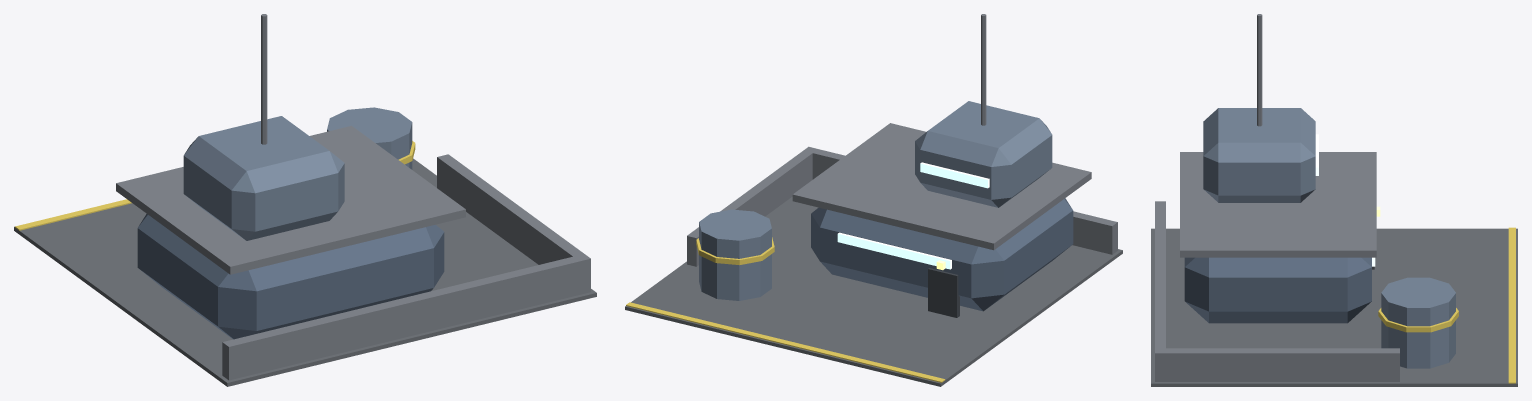
Rendered from zone_low_2.glb.
The picture shows the model from 3 angles, left to right: view 1: azimuth 30°, elevation 25°; view 2: azimuth 150°, elevation 25°; view 3: azimuth 270°, elevation 25°; orthographic projection. The views are drawn at different scales.
Visible parts, largest first — view 1: zone_low_2, detail; view 2: zone_low_2, detail; view 3: zone_low_2, detail.
Boxes of the visible parts, box(x1,y1,x2,y2) form: zone_low_2: box(14, 107, 596, 386); detail: box(15, 14, 415, 230); zone_low_2: box(625, 101, 1122, 386); detail: box(626, 14, 986, 382); zone_low_2: box(1151, 108, 1517, 386); detail: box(1257, 14, 1515, 383).
Bounding box in the file's own units: 19.6 × 15.26 × 19.6.
